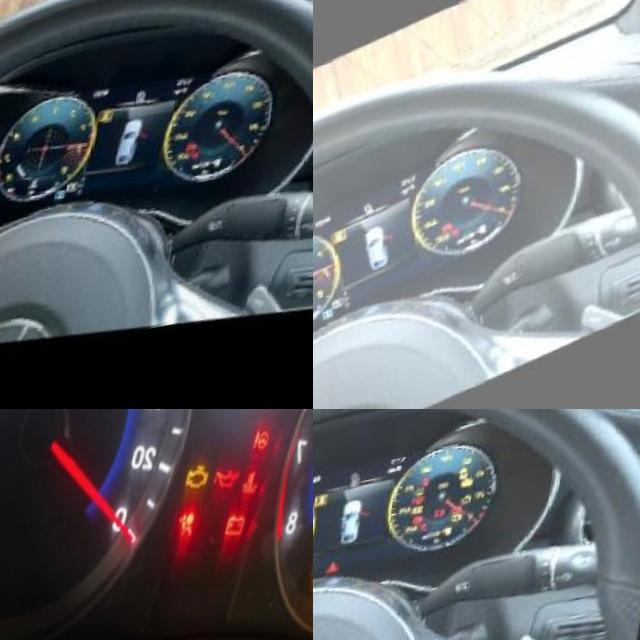Engine cooling system: (249, 479, 271, 508), (40, 175, 53, 190), (313, 322, 318, 336)
Low fuel level: (458, 541, 467, 552)
